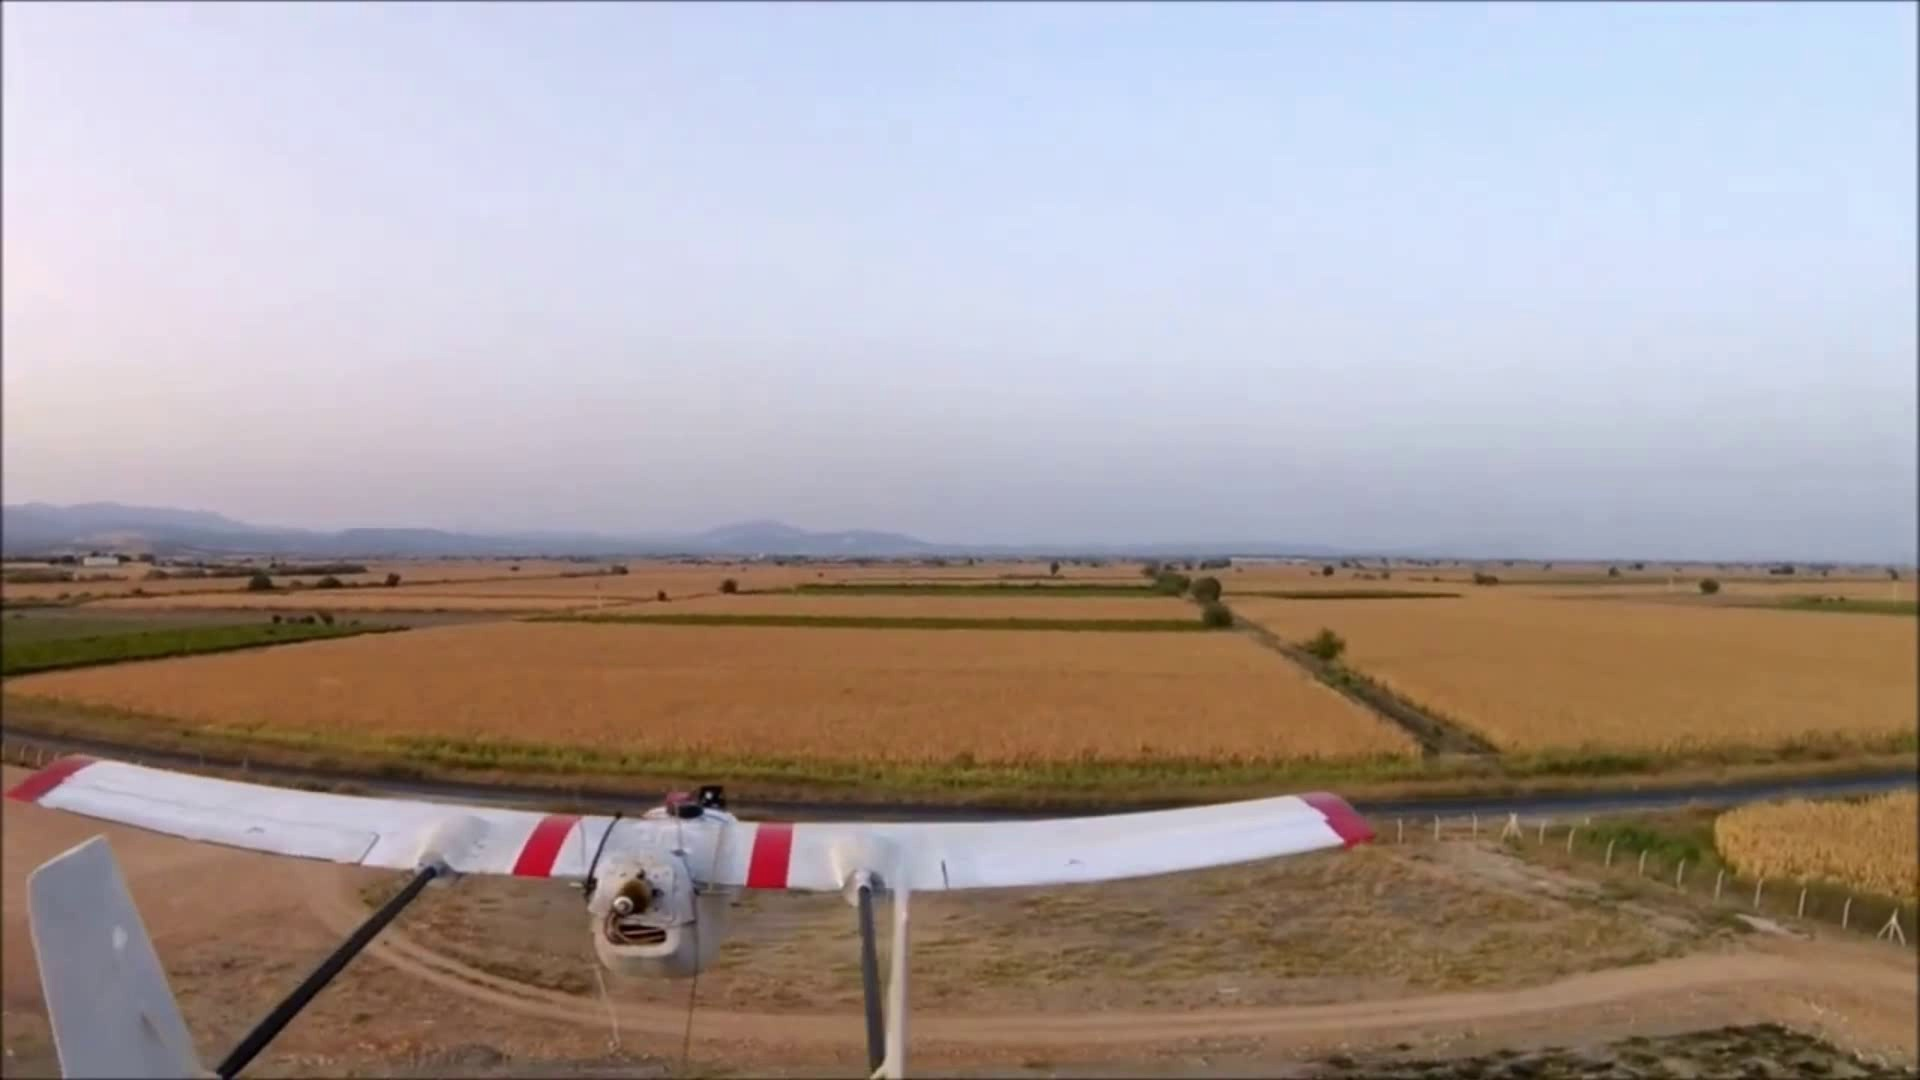airplane: (13, 733, 1386, 1073)
